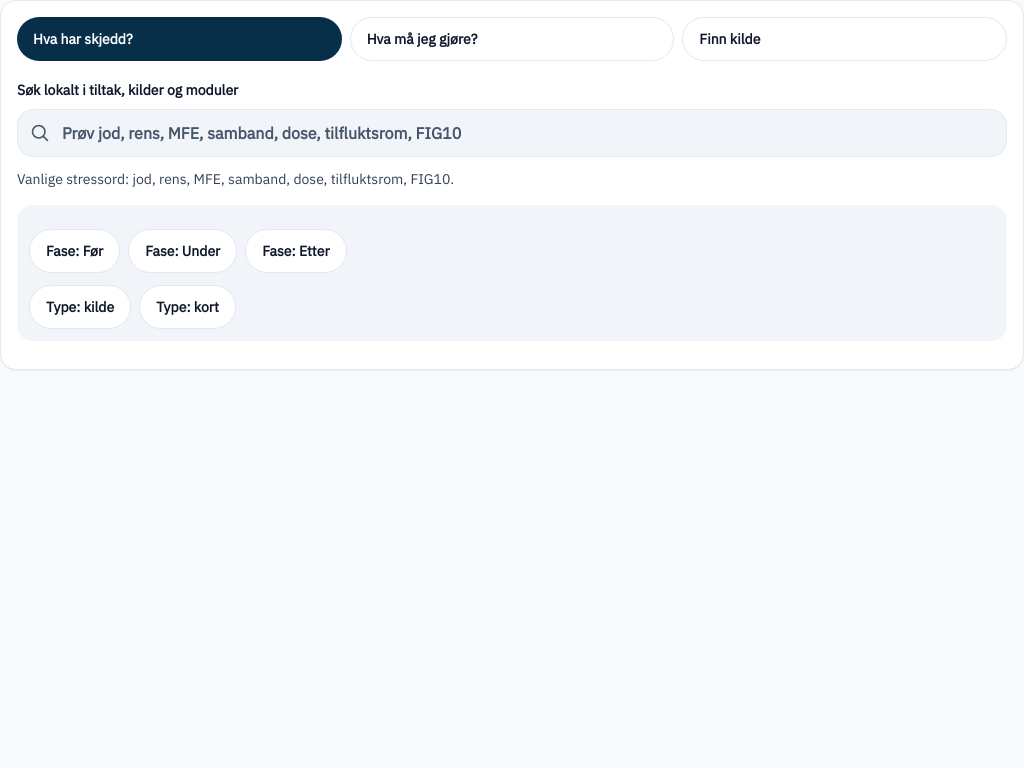
filters matching results before applying the visible result limit
In the search field: (526, 133) [58, 111, 994, 155], type "pumpe"
(page scrolled)
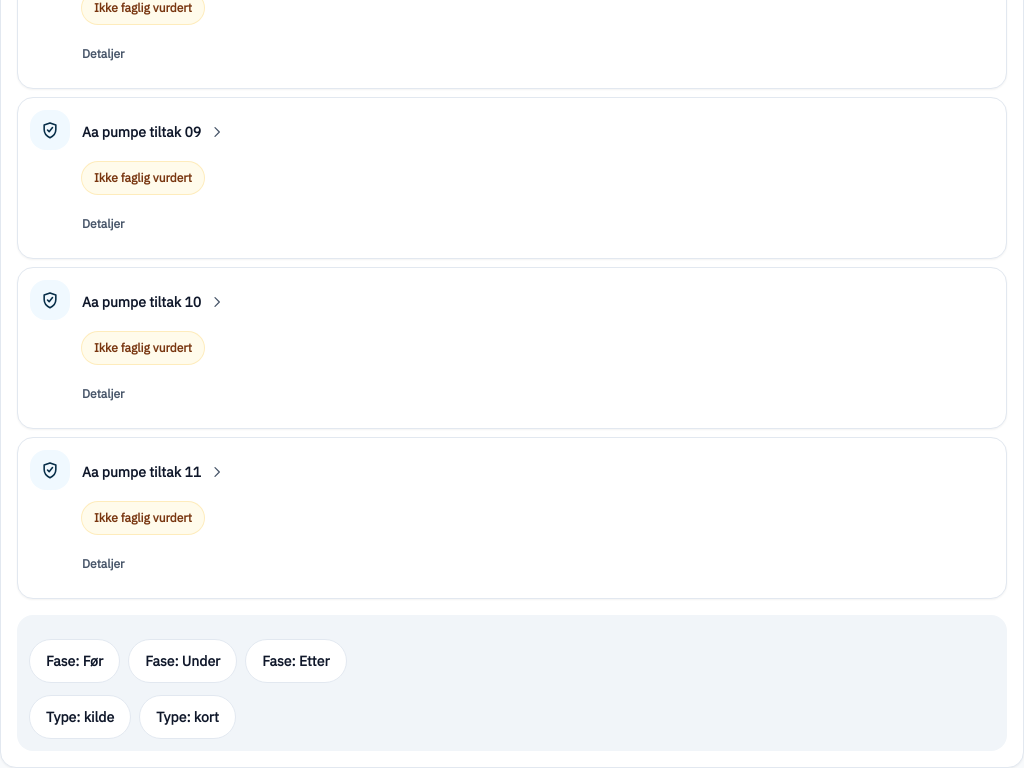
Expected: the link "Zz kilde etter limit" is not shown
Click the button "Type: kilde": (80, 717) [29, 695, 131, 739]
(page scrolled)
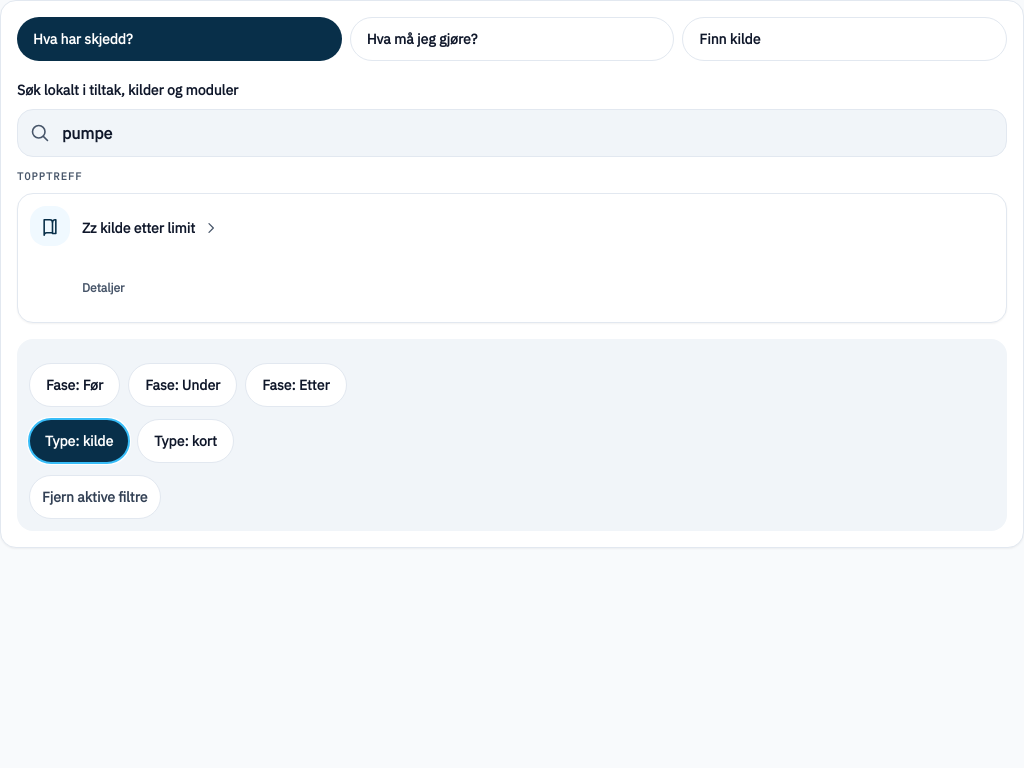
Now the link "Zz kilde etter limit" is shown, box [82, 219, 219, 237]
